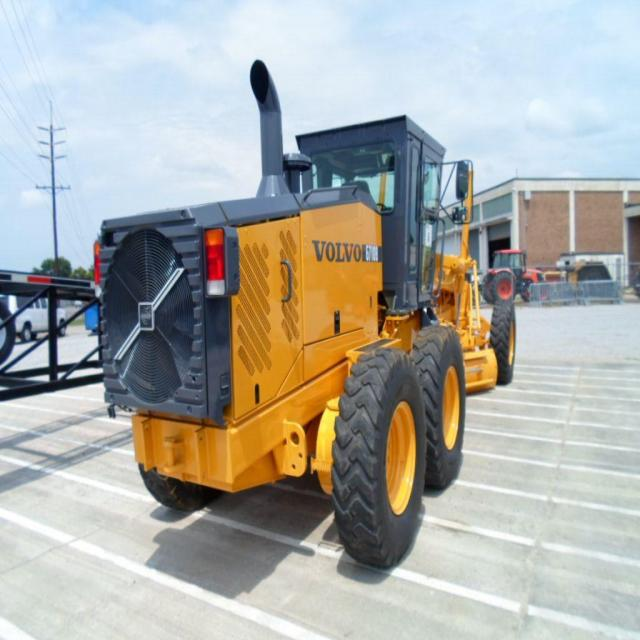Grader: (97, 51, 540, 568)
